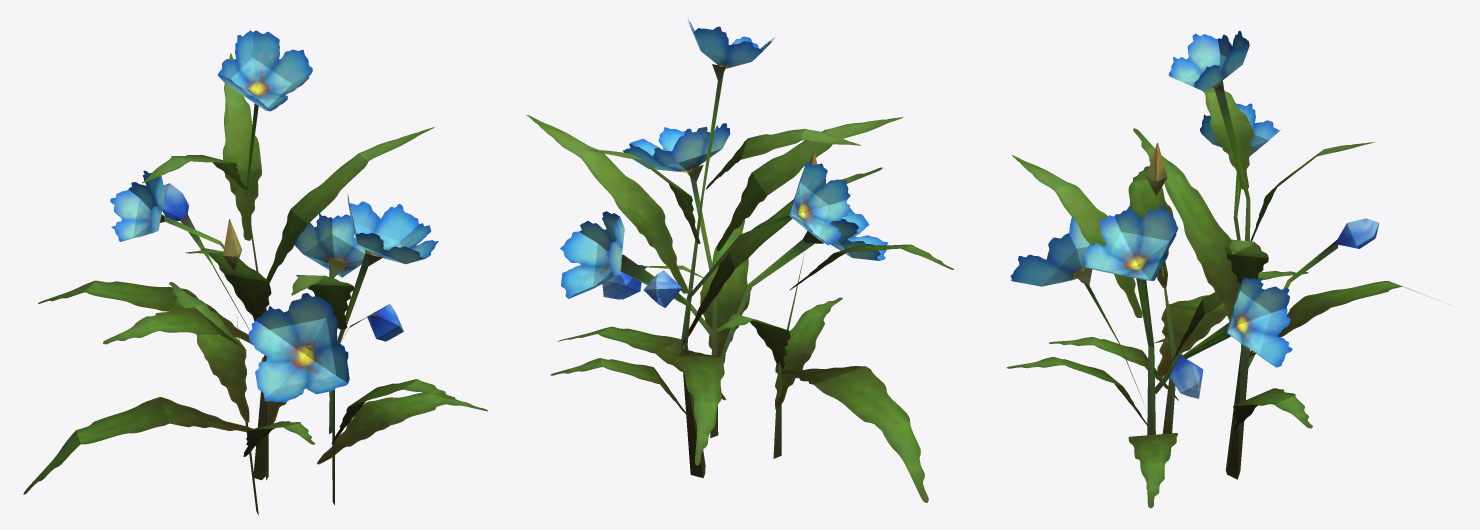
Rendered from cao03_zw.FBX.
The picture shows the model from 3 angles, left to right: view 1: azimuth 30°, elevation 25°; view 2: azimuth 150°, elevation 25°; view 3: azimuth 270°, elevation 25°; orthographic projection. The views are drawn at different scales.
Parts seen in each view (by area): view 1: cao03_zw_B; view 2: cao03_zw_B; view 3: cao03_zw_B.
Part boxes in pixels (left/top/right/bottom): cao03_zw_B: left=23, top=30, right=487, bottom=515; cao03_zw_B: left=527, top=19, right=953, bottom=502; cao03_zw_B: left=1007, top=31, right=1438, bottom=508.
Size of the model in its own units: 117 by 119 by 115.
